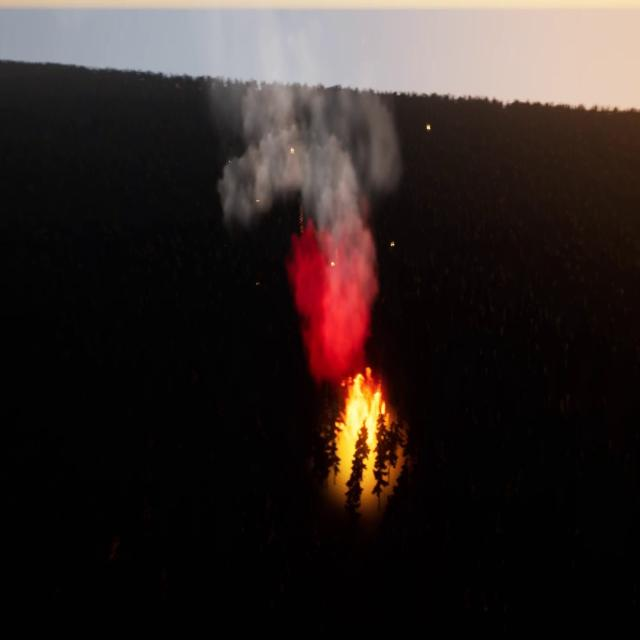fire: (340, 373, 391, 451)
smoke: (212, 71, 400, 372)
